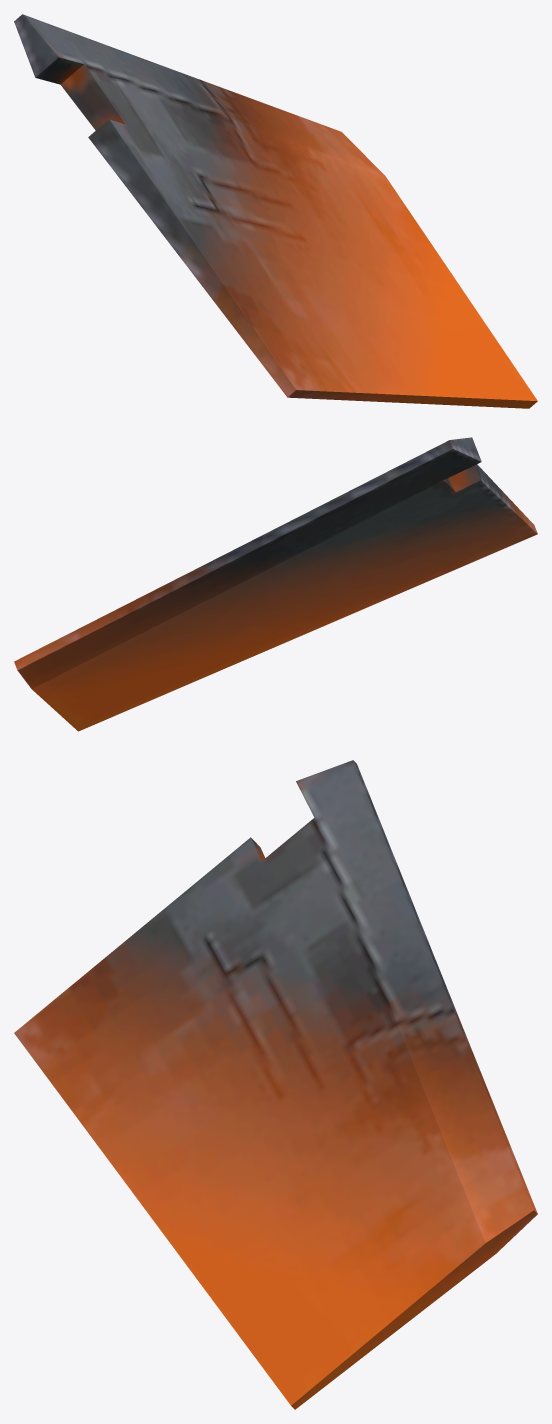
Rendered from Debris_03_real.fbx.
3 renders of one model, top to bottom at view 1: azimuth 30°, elevation 25°; view 2: azimuth 150°, elevation 25°; view 3: azimuth 270°, elevation 25°, orthographic. The views are drawn at different scales.
Parts seen in each view (by area): view 1: Debris02; view 2: Debris02; view 3: Debris02.
Part boxes in pixels (box(x1,y1,x2,y2)): Debris02: box(14, 14, 537, 408); Debris02: box(14, 437, 537, 731); Debris02: box(14, 760, 537, 1409).
Bounding box in the file's own units: 24.11 × 24.5 × 22.71.
